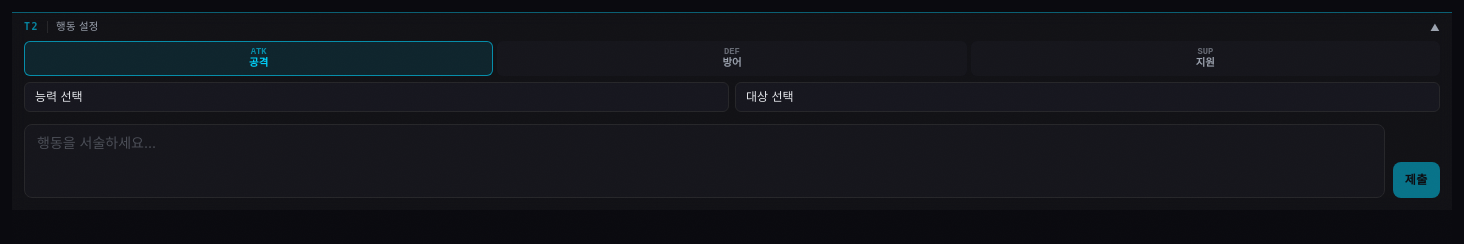
Test: ActionInput › 능력 선택 시 코스트 프리뷰가 표시된다
Select "역장 전개 I" in the dropdown with test id "ability-select" at (376, 97), box [24, 82, 729, 112]
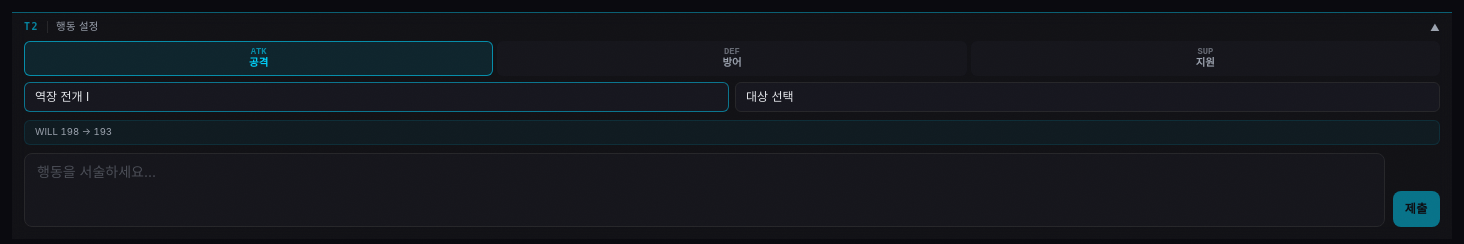
Expected: the text "WILL 198 → 193" is shown, [35, 125, 112, 140]
